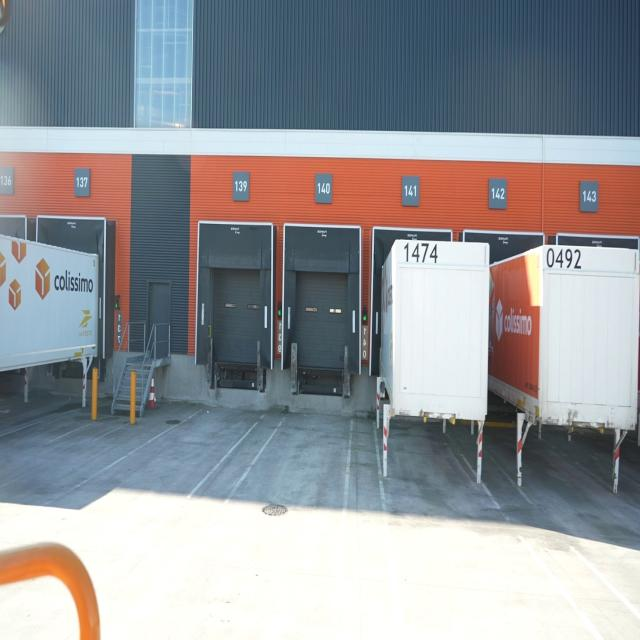Code: (543, 242, 585, 274), (398, 238, 442, 268)
